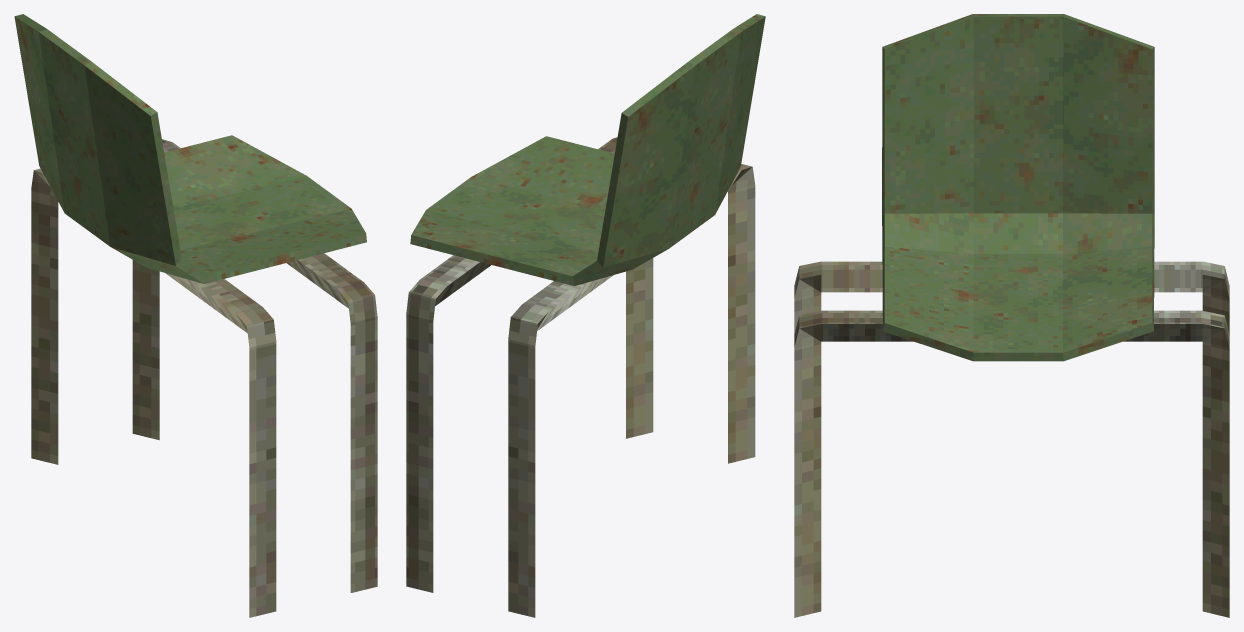
Rendered from busstop_single_seat.glb.
The picture shows the model from 3 angles, left to right: view 1: azimuth 30°, elevation 25°; view 2: azimuth 150°, elevation 25°; view 3: azimuth 270°, elevation 25°; orthographic projection.
Visible parts, largest first — view 1: busstop_single_seat; view 2: busstop_single_seat; view 3: busstop_single_seat.
Boxes of the visible parts, <box> form: busstop_single_seat: <box>14,14,377,617</box>; busstop_single_seat: <box>406,14,765,617</box>; busstop_single_seat: <box>794,14,1229,617</box>.
Bounding box in the file's own units: 0.692 × 1.25 × 0.9766.
Materials: 1 (1 with a texture image).
